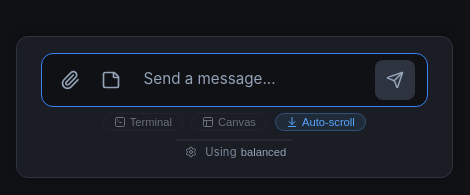
Test: ChatInput Component › shows slash command dropdown when typing /
The image size is (470, 195).
In the text box with placeholder "Send a message...": (251, 80) top-left (136, 60), bottom-right (367, 100), type "/"
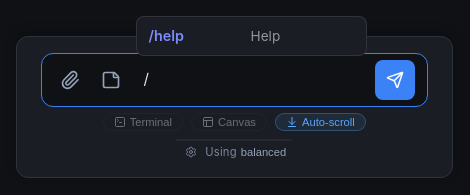
Result: the text "Help" is shown at top-left (251, 26), bottom-right (280, 46)
